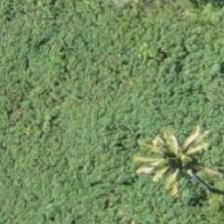Kelapa_Sawit: (136, 141, 223, 223)
